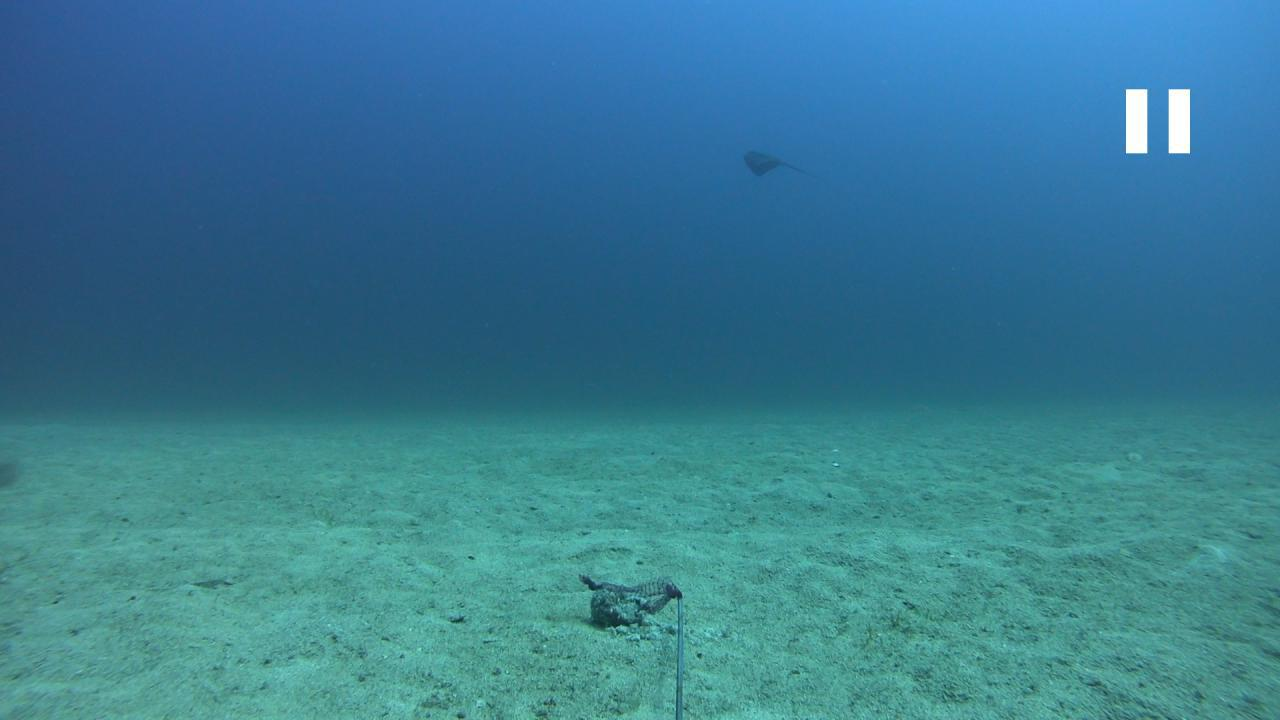dasyatis: (742, 148, 806, 176)
